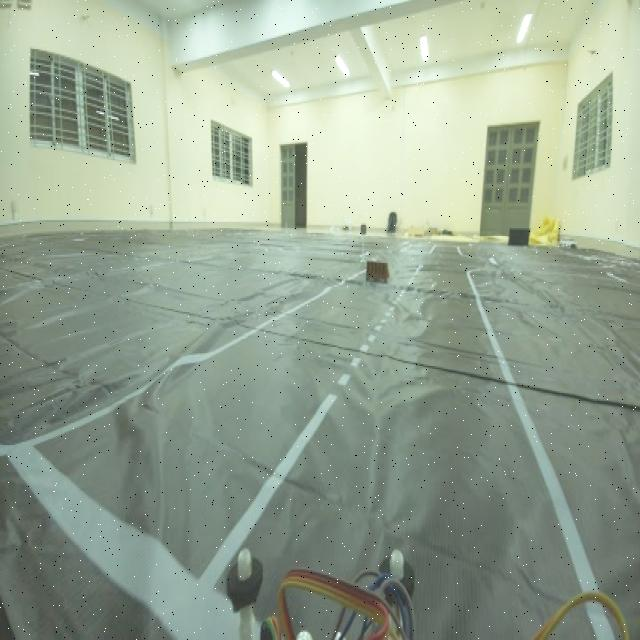roadblock: (366, 258, 390, 287)
